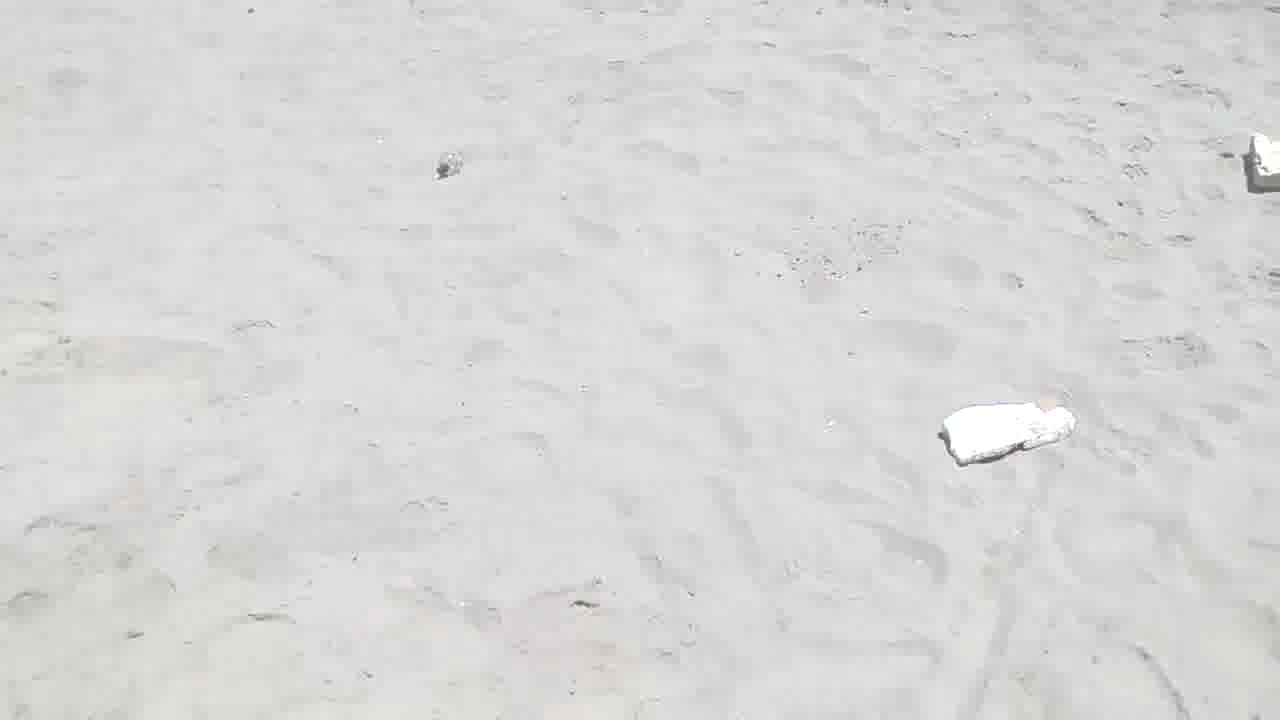large collection of objects: (1244, 134, 1279, 198)
obj: (936, 399, 1073, 462), (436, 151, 464, 177)
